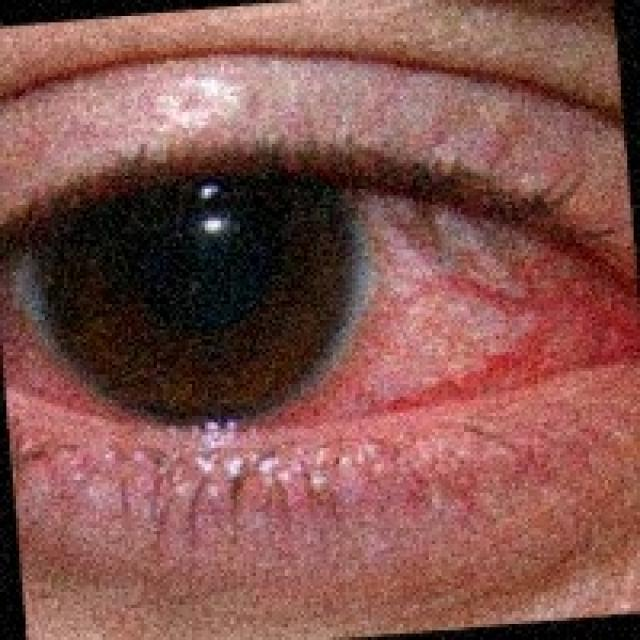Keratitis: (0, 147, 614, 486)
